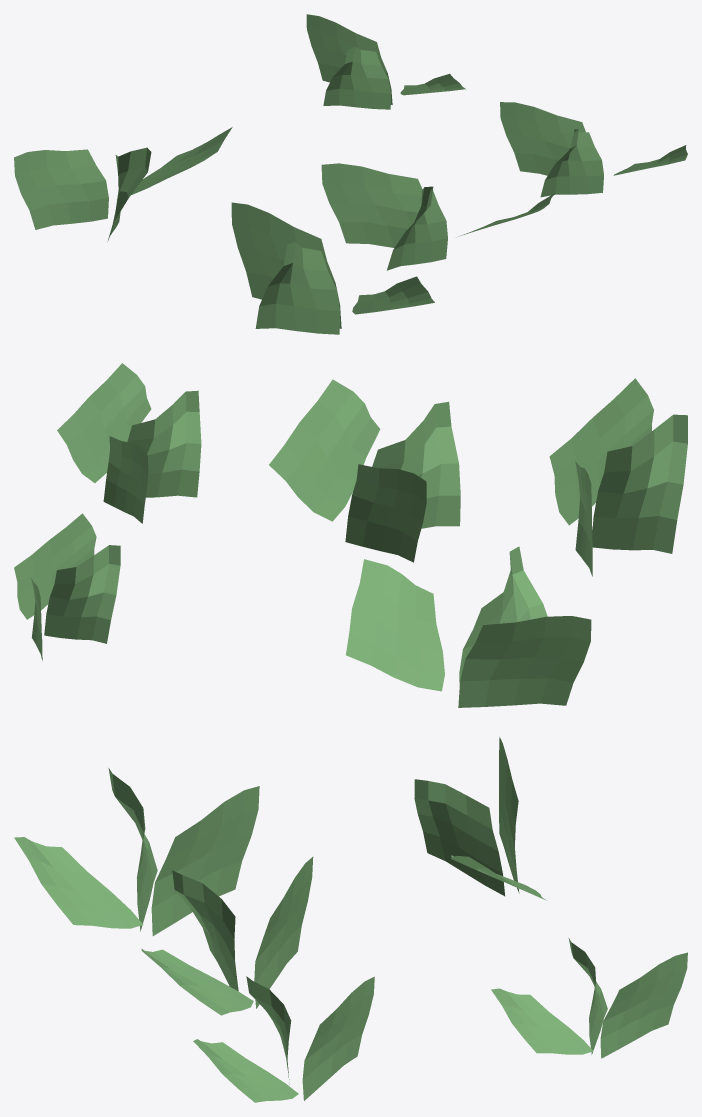
Rendered from grass_bunch.fbx.
3 views of the same model, one above another, from view 1: azimuth 30°, elevation 25°; view 2: azimuth 150°, elevation 25°; view 3: azimuth 270°, elevation 25° (orthographic). The views are drawn at different scales.
Visible parts, largest first — view 1: Plane.001, Plane.003, Plane.002, Plane.005, Plane.004; view 2: Plane.002, Plane.003, Plane.001, Plane.005, Plane.004; view 3: Plane.001, Plane.003, Plane.004, Plane.002, Plane.005.
Boxes of the visible parts, x1=… form: Plane.001: x1=231, y1=202, x2=434, y2=334; Plane.003: x1=321, y1=163, x2=555, y2=270; Plane.002: x1=14, y1=127, x2=232, y2=241; Plane.005: x1=500, y1=102, x2=687, y2=197; Plane.004: x1=306, y1=14, x2=465, y2=109; Plane.002: x1=346, y1=546, x2=591, y2=707; Plane.003: x1=269, y1=379, x2=460, y2=562; Plane.001: x1=549, y1=378, x2=687, y2=576; Plane.005: x1=57, y1=363, x2=201, y2=523; Plane.004: x1=14, y1=513, x2=120, y2=660; Plane.001: x1=14, y1=768, x2=259, y2=935; Plane.003: x1=141, y1=856, x2=313, y2=1015; Plane.004: x1=491, y1=938, x2=687, y2=1058; Plane.002: x1=414, y1=737, x2=546, y2=900; Plane.005: x1=193, y1=976, x2=374, y2=1102.
Size of the model in its own units: 124 by 24.66 by 117.
